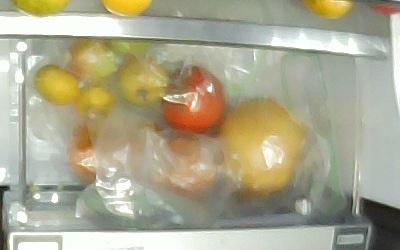peach_vinyl: (65, 116, 144, 185), (152, 132, 218, 197)
pear_vinyl: (214, 95, 304, 194)
tangerine_vinyl: (32, 63, 79, 107), (72, 83, 115, 121)
tomato_vinyl: (159, 63, 226, 134), (116, 52, 171, 107), (64, 38, 117, 83), (110, 39, 152, 58)
